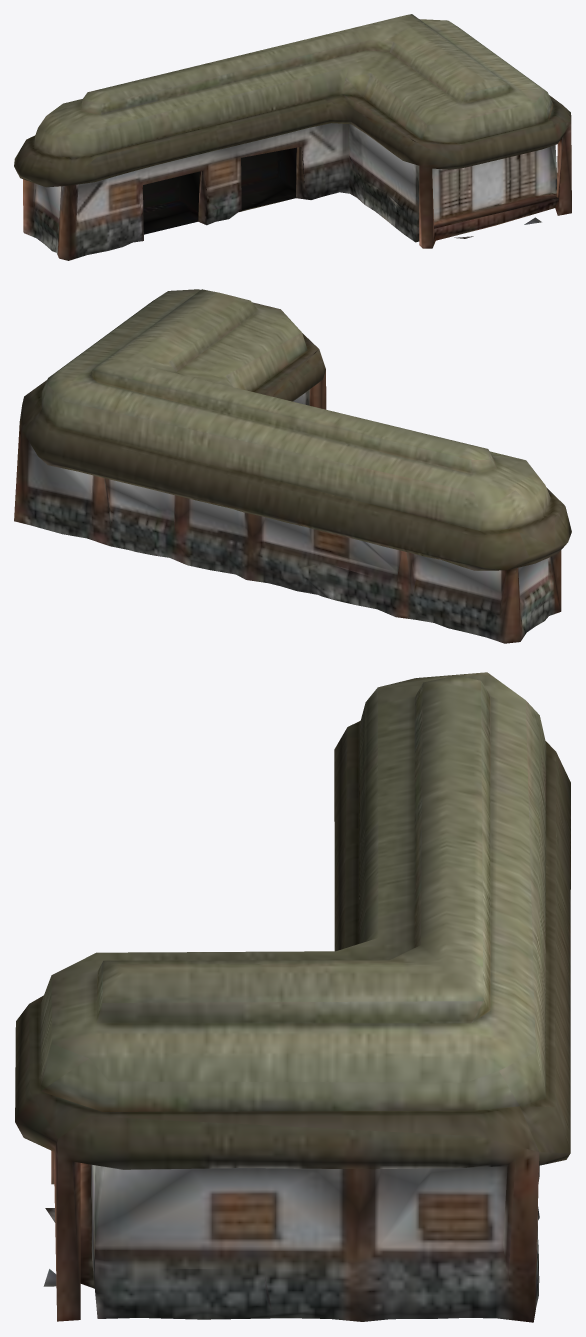
The model's file is house-L_far.glb.
The picture shows the model from 3 angles, top to bottom: view 1: azimuth 30°, elevation 25°; view 2: azimuth 150°, elevation 25°; view 3: azimuth 270°, elevation 25°; orthographic projection. The views are drawn at different scales.
Visible parts, largest first — view 1: house_L_lod1; view 2: house_L_lod1; view 3: house_L_lod1.
Boxes of the visible parts, x1,y1,x2,y2 form: house_L_lod1: (14, 14, 571, 260); house_L_lod1: (14, 289, 571, 643); house_L_lod1: (15, 672, 570, 1322).
Bounding box in the file's own units: 14.19 × 4.12 × 7.37.
Materials: 1 (1 with a texture image).
